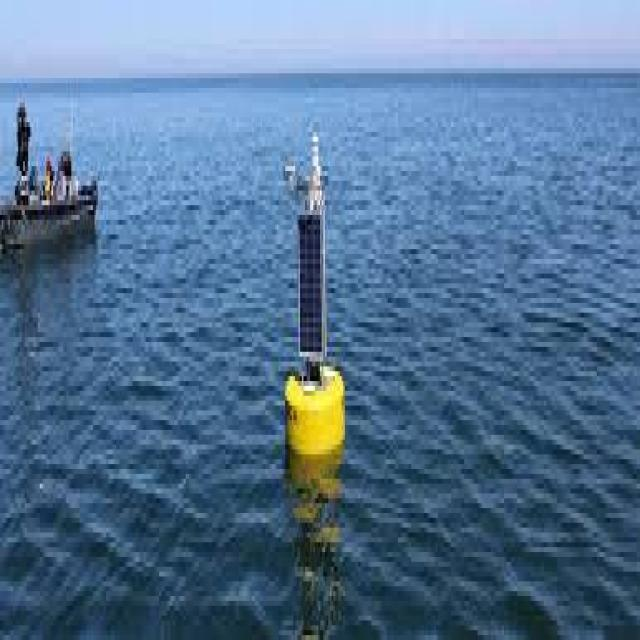marque: (275, 101, 353, 474)
